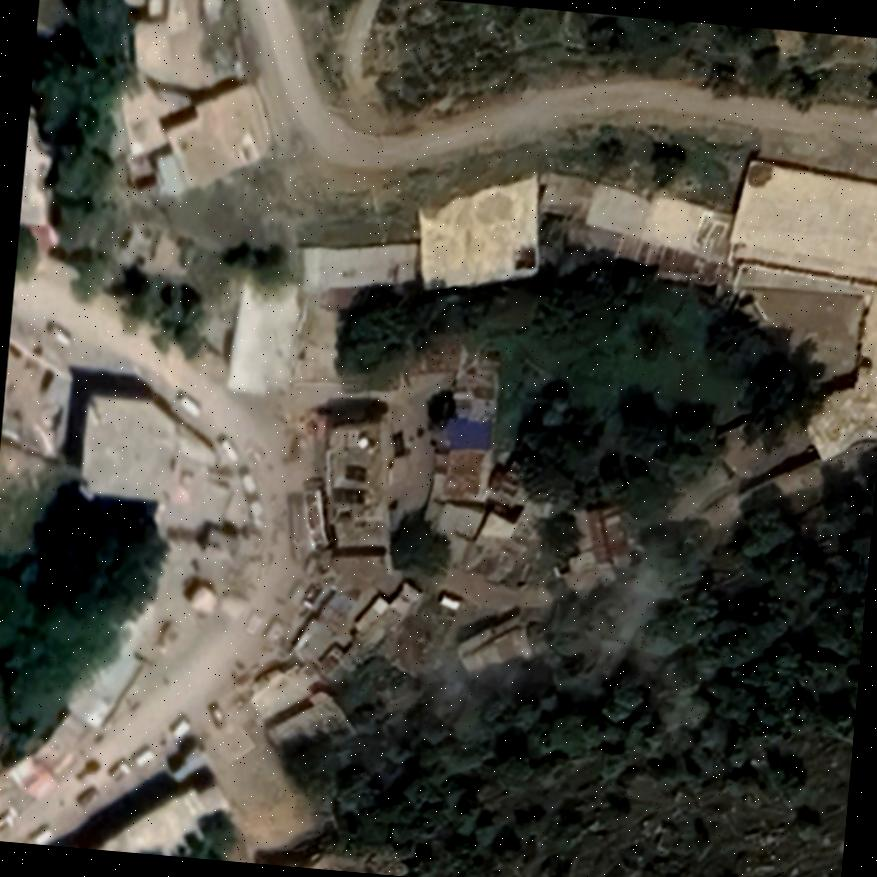Solarpanel: (329, 486, 365, 503), (342, 461, 366, 483)
